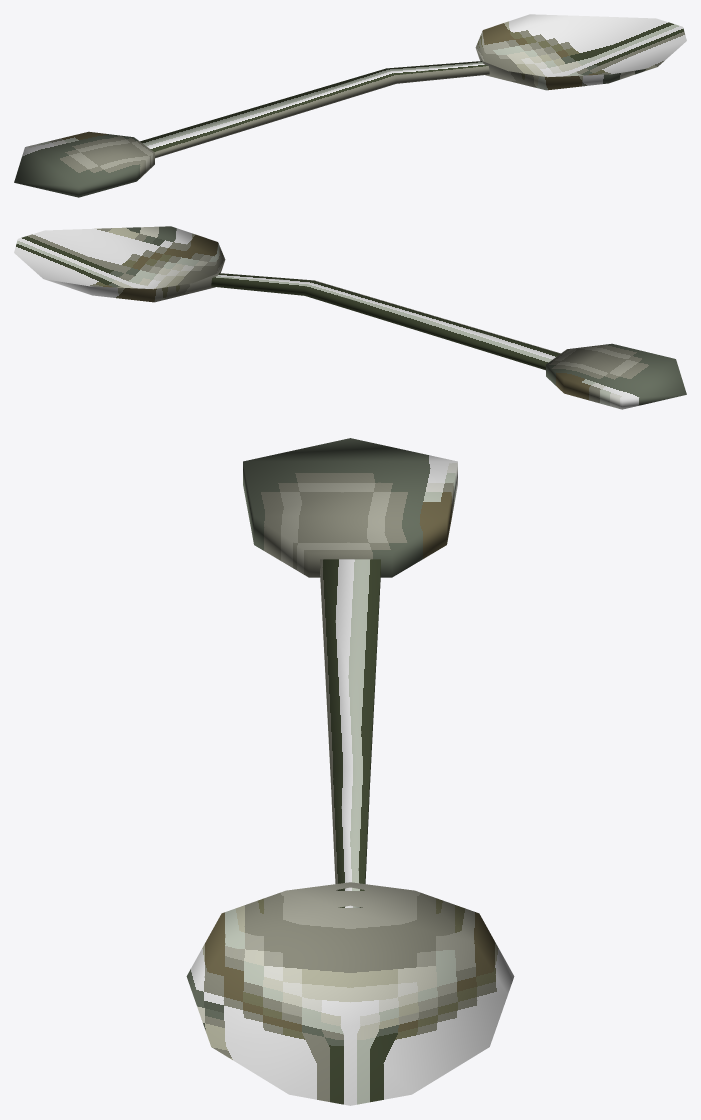
The picture shows the model from 3 angles, top to bottom: view 1: azimuth 30°, elevation 25°; view 2: azimuth 150°, elevation 25°; view 3: azimuth 270°, elevation 25°; orthographic projection. The views are drawn at different scales.
Visible parts, largest first — view 1: 1339sbim03_22_c; view 2: 1339sbim03_22_c; view 3: 1339sbim03_22_c.
Part boxes in pixels (left/top/right/bottom): 1339sbim03_22_c: left=14, top=14, right=686, bottom=197; 1339sbim03_22_c: left=14, top=226, right=686, bottom=409; 1339sbim03_22_c: left=186, top=438, right=514, bottom=1105.
Bounding box in the file's own units: 1.99 × 0.1296 × 0.4224.
Materials: 1 (1 with a texture image).
